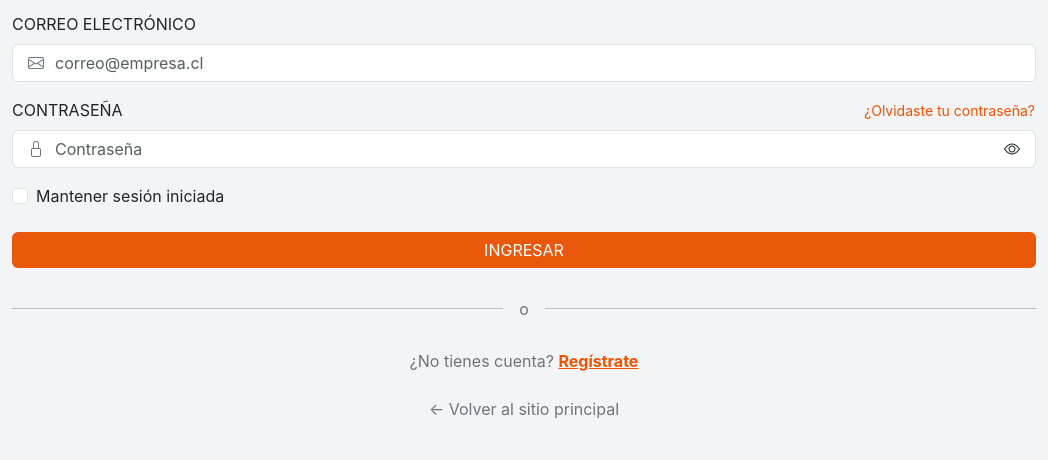
Test: muestra un error cuando se intenta ingresar sin contraseña
Step 1. Type "cliente@ejemplo.cl" into the field with placeholder "correo@empresa.cl" → coordinates (524, 63), box [12,44,1036,82]
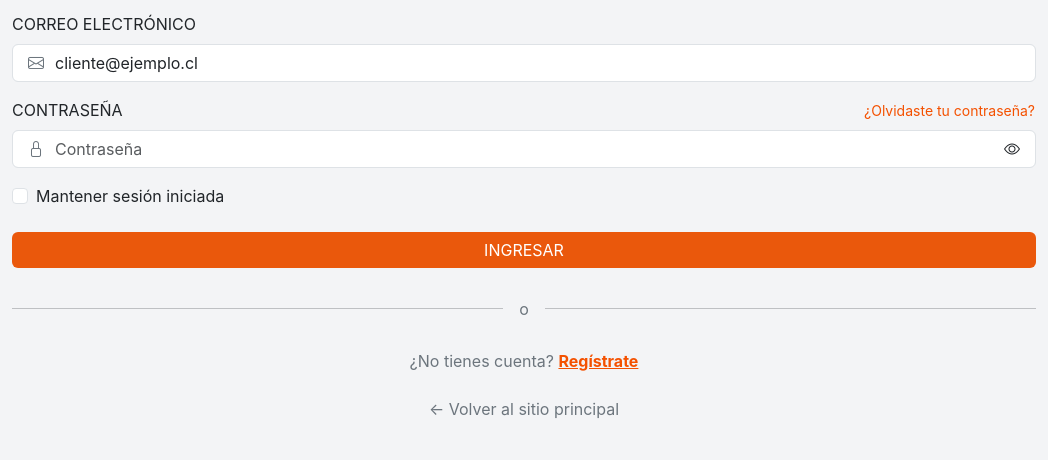
Step 2. Click the button "INGRESAR" → coordinates (524, 250), box [12,232,1036,268]
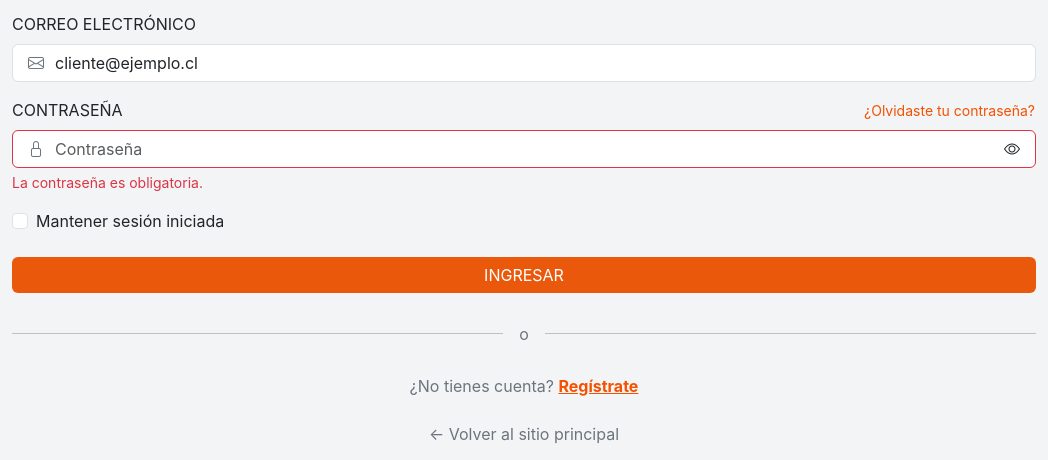
Now the text "La contraseña es obligatoria." is shown, box [12,174,203,191]
